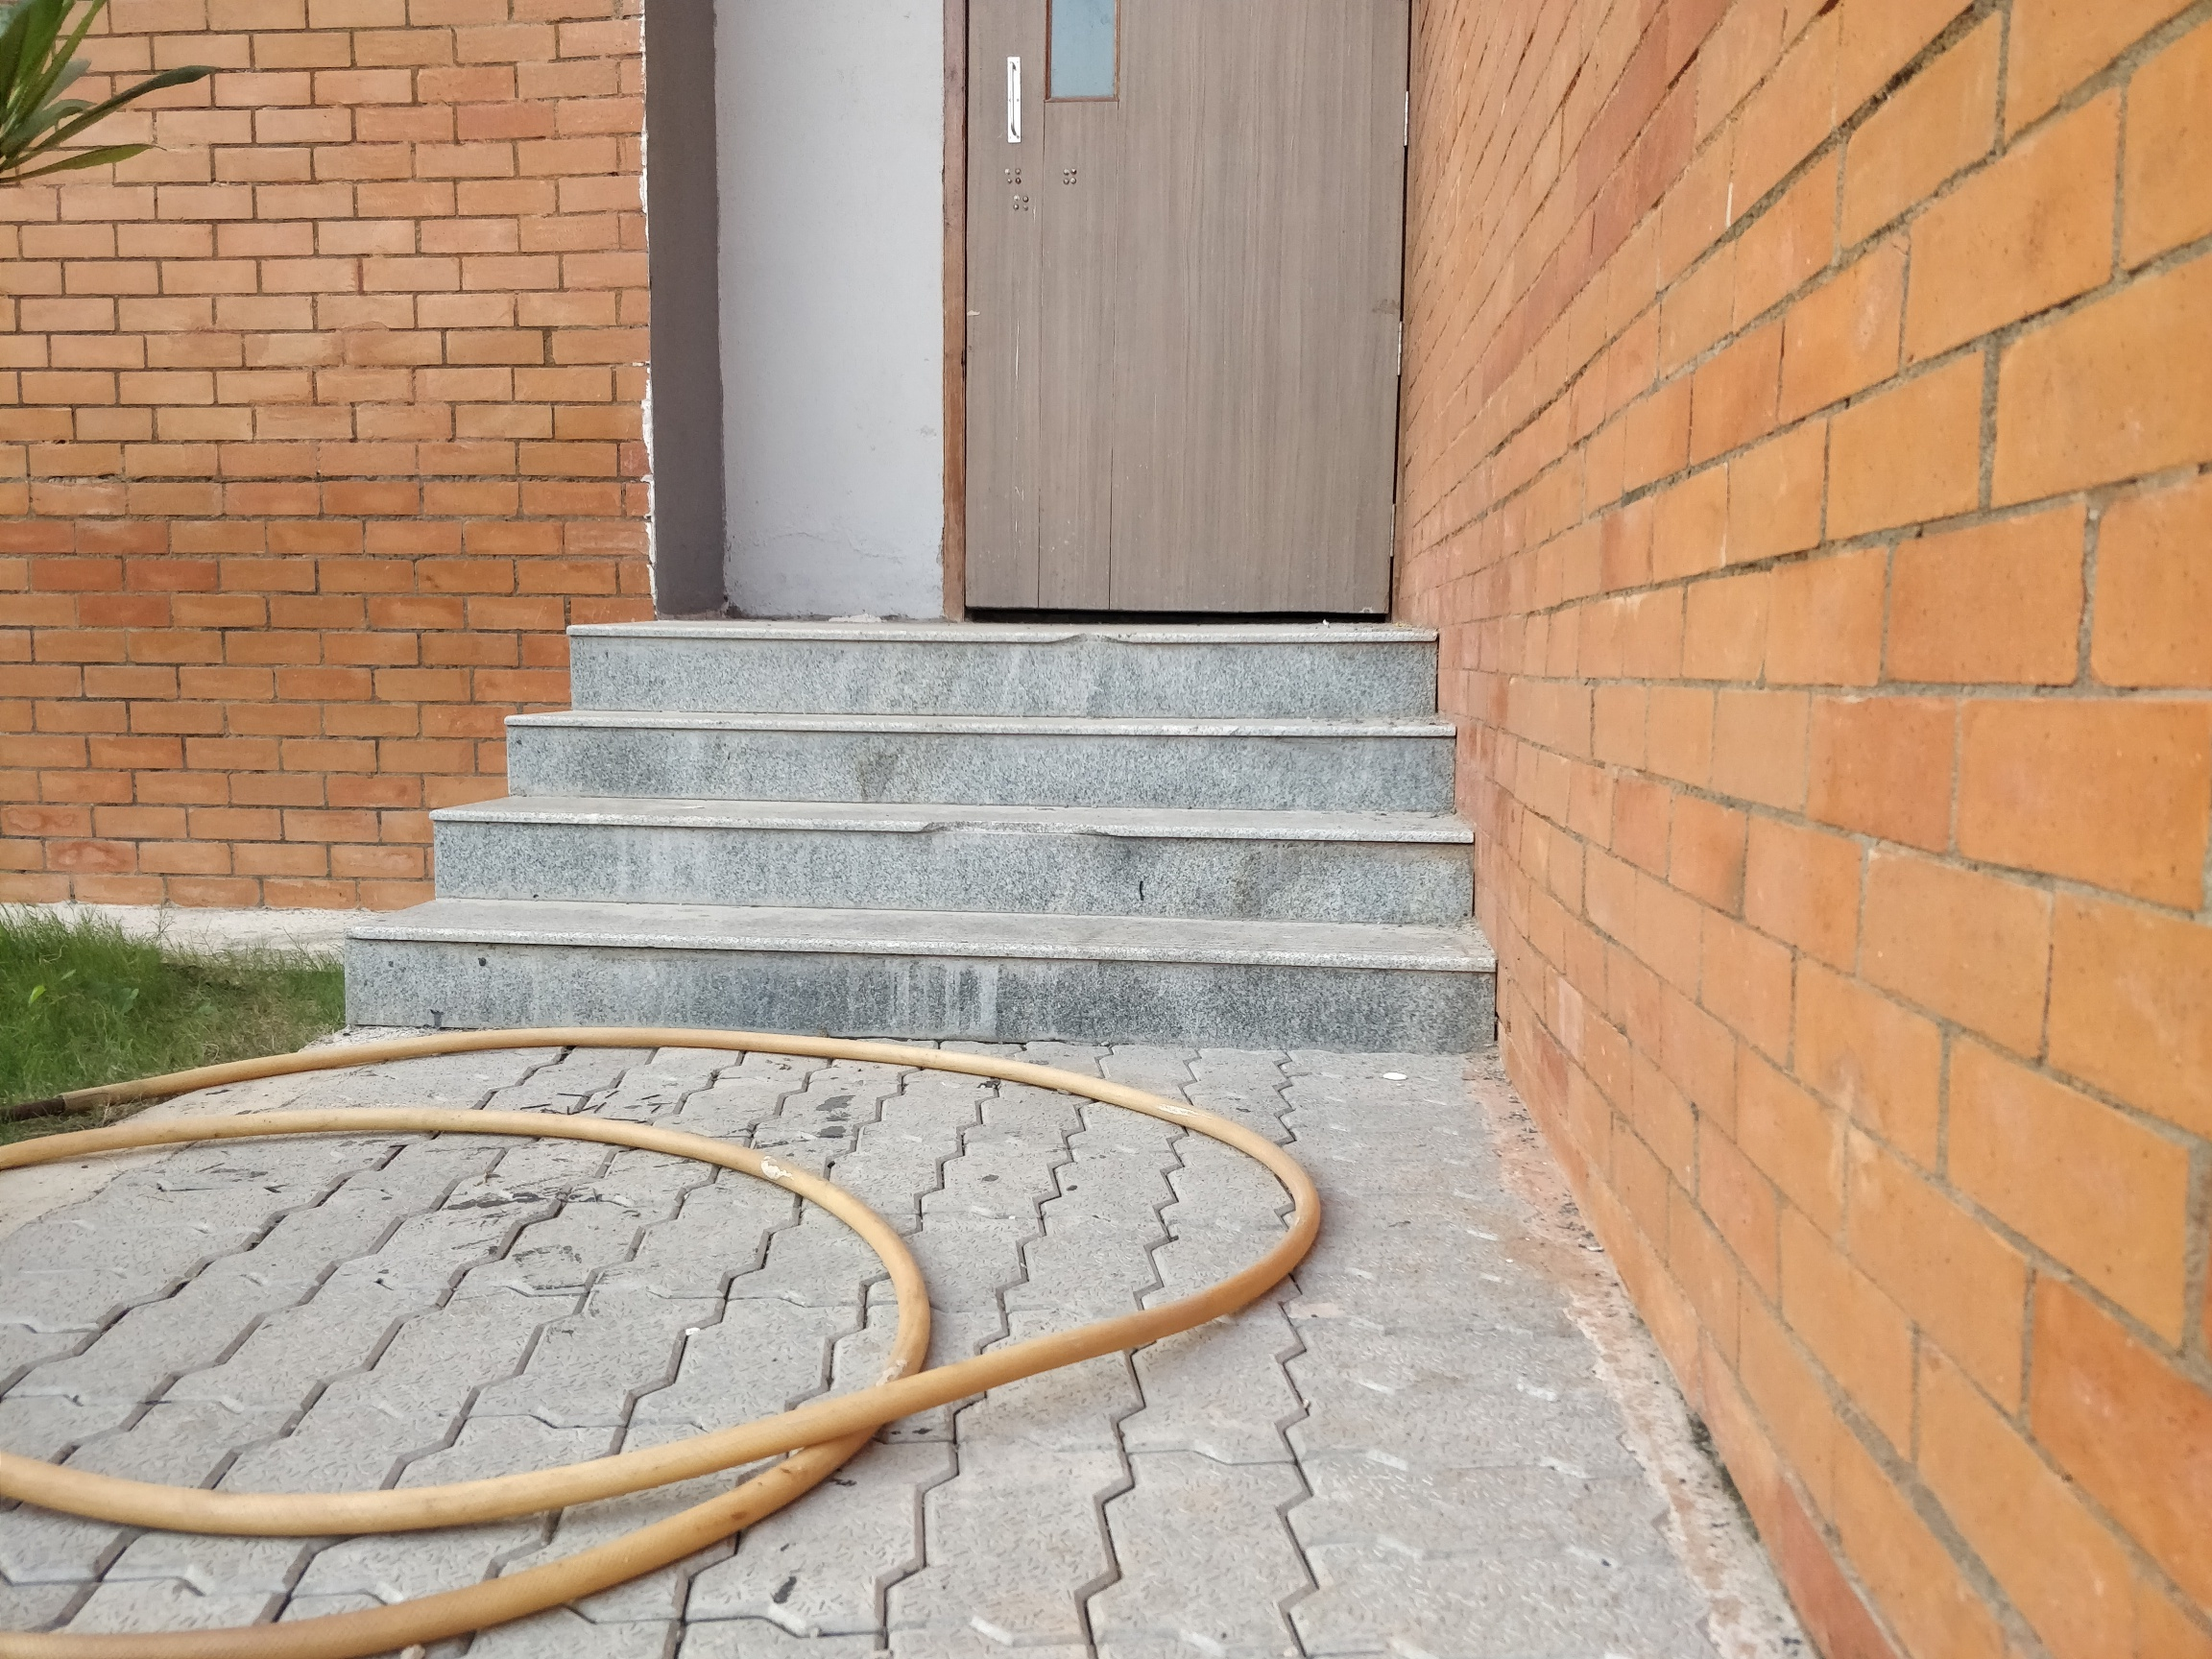stairs_up: (324, 624, 1496, 1058)
